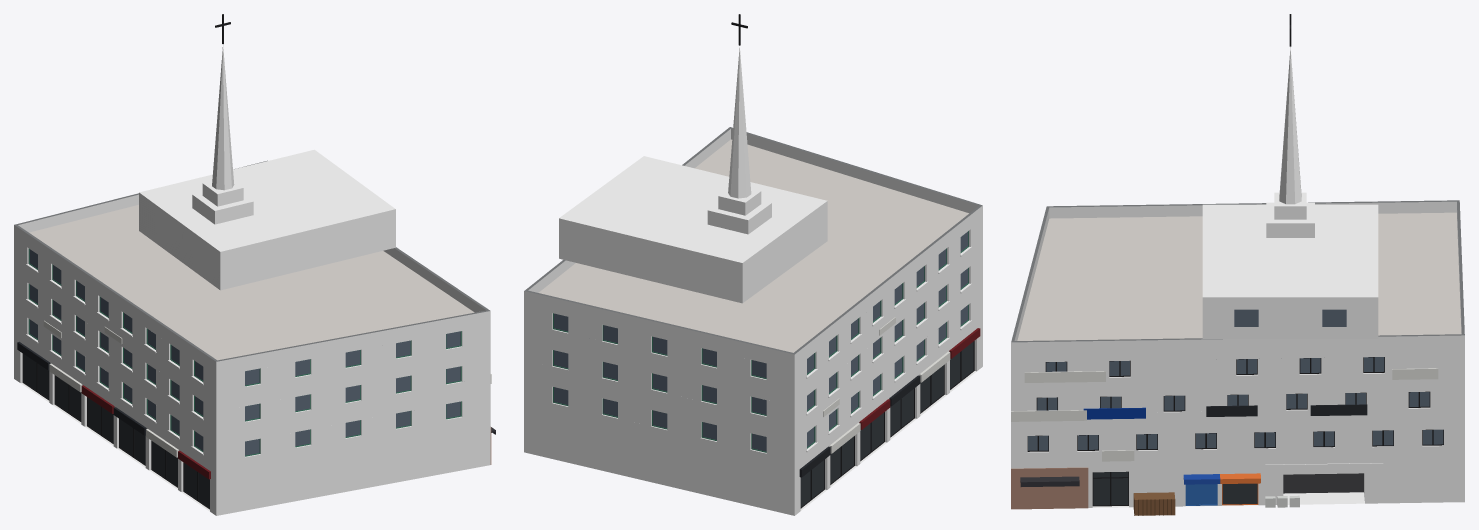
Rendered from deoksan528.glb.
The picture shows the model from 3 angles, left to right: view 1: azimuth 30°, elevation 25°; view 2: azimuth 150°, elevation 25°; view 3: azimuth 270°, elevation 25°; orthographic projection. The views are drawn at different scales.
Visible parts, largest first — view 1: deoksan528; view 2: deoksan528; view 3: deoksan528.
Part boxes in pixels (x1,y1,x2,y2): deoksan528: (14,14,495,515); deoksan528: (524,14,982,515); deoksan528: (1011,14,1464,515).
Size of the model in its own units: 26.23 by 34.4 by 33.55.
